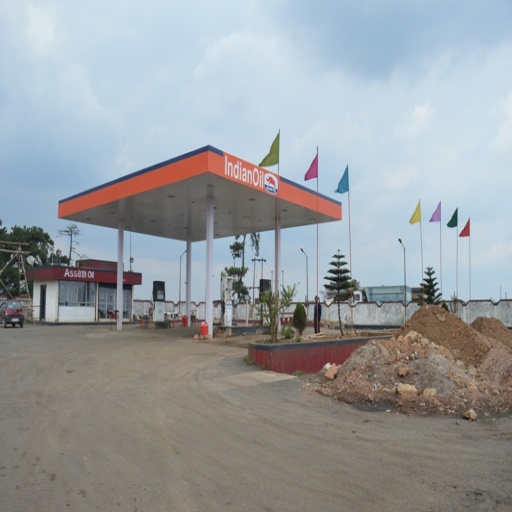roof: (57, 143, 348, 242)
